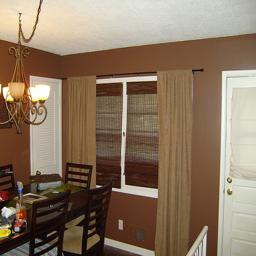chair: (94, 200, 224, 256), (1, 207, 140, 256), (126, 203, 183, 256), (1, 236, 32, 256)
diningtable: (1, 202, 208, 256)
